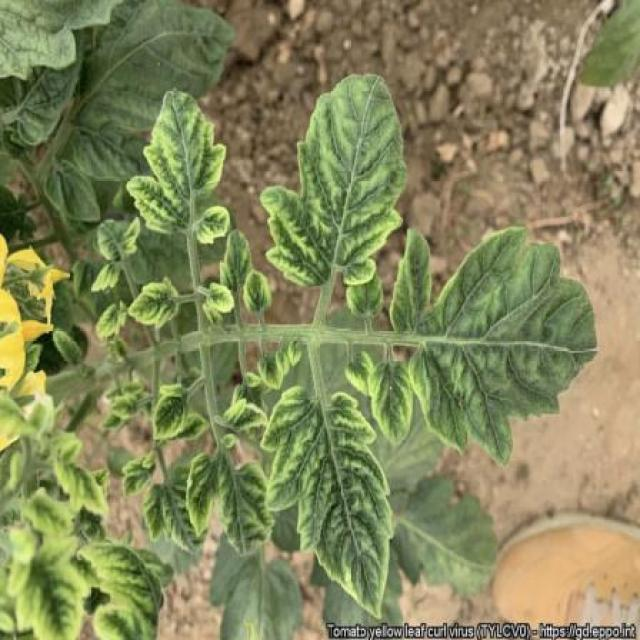Yellow Leaf Curl Virus: (392, 220, 598, 466), (263, 67, 408, 293), (263, 386, 396, 621), (127, 83, 229, 243), (189, 451, 275, 559), (367, 359, 417, 451), (126, 274, 183, 332), (149, 382, 191, 442)
